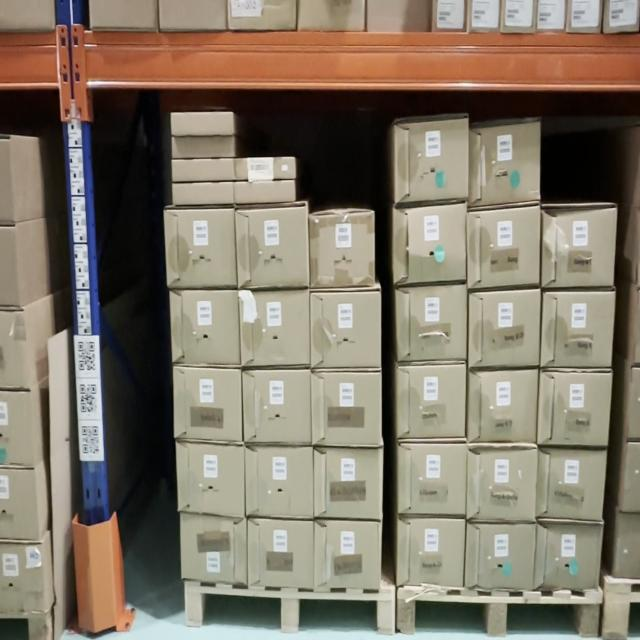box: (542, 204, 616, 284), (468, 205, 538, 286), (395, 205, 466, 282), (397, 362, 466, 441), (470, 122, 538, 202), (311, 288, 380, 366), (240, 205, 306, 286), (468, 367, 538, 441), (539, 368, 609, 439), (240, 293, 309, 364), (167, 210, 234, 283), (396, 125, 467, 193), (313, 374, 381, 444), (247, 444, 312, 517), (470, 445, 534, 519), (544, 293, 610, 364), (315, 448, 383, 516), (470, 295, 538, 363), (399, 444, 465, 514), (174, 291, 237, 364), (246, 368, 310, 439), (182, 517, 247, 586), (397, 520, 464, 586), (540, 448, 602, 519), (398, 292, 466, 356), (177, 367, 240, 435), (316, 521, 380, 587), (311, 217, 374, 284), (536, 522, 601, 586), (466, 525, 534, 586), (249, 522, 313, 586), (180, 444, 242, 510), (0, 540, 45, 613), (0, 466, 40, 539), (0, 389, 34, 466), (0, 309, 30, 389), (0, 223, 21, 305), (615, 511, 640, 578), (172, 136, 234, 160), (0, 135, 15, 225), (172, 160, 234, 180), (623, 441, 640, 511), (236, 158, 295, 178), (172, 113, 232, 131), (173, 185, 233, 202), (234, 183, 295, 199), (629, 369, 640, 437)
